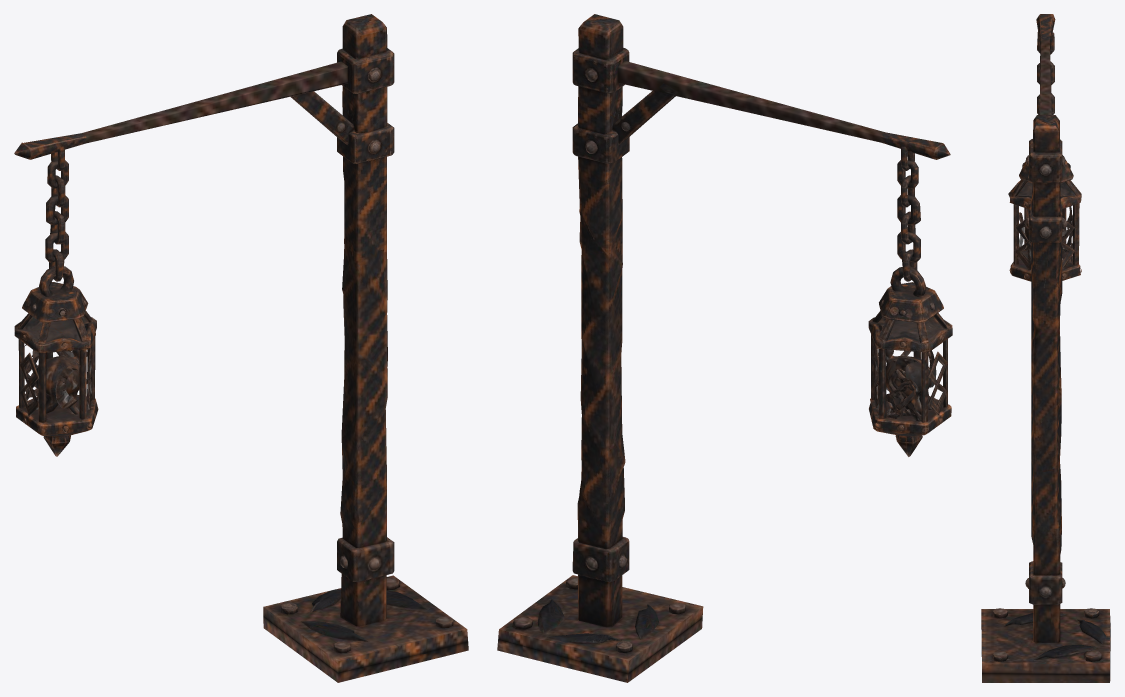
Rendered from PerchGallows.fbx.
The picture shows the model from 3 angles, left to right: view 1: azimuth 30°, elevation 25°; view 2: azimuth 150°, elevation 25°; view 3: azimuth 270°, elevation 25°; orthographic projection. The views are drawn at different scales.
Visible parts, largest first — view 1: Mesh_0; view 2: Mesh_0; view 3: Mesh_0.
Boxes of the visible parts, box(x1,y1,x2,y2) form: Mesh_0: box(14, 14, 468, 682); Mesh_0: box(497, 14, 952, 682); Mesh_0: box(981, 14, 1110, 682).
Bounding box in the file's own units: 67.04 × 95.21 × 20.9.
Materials: 1 (1 with a texture image).
